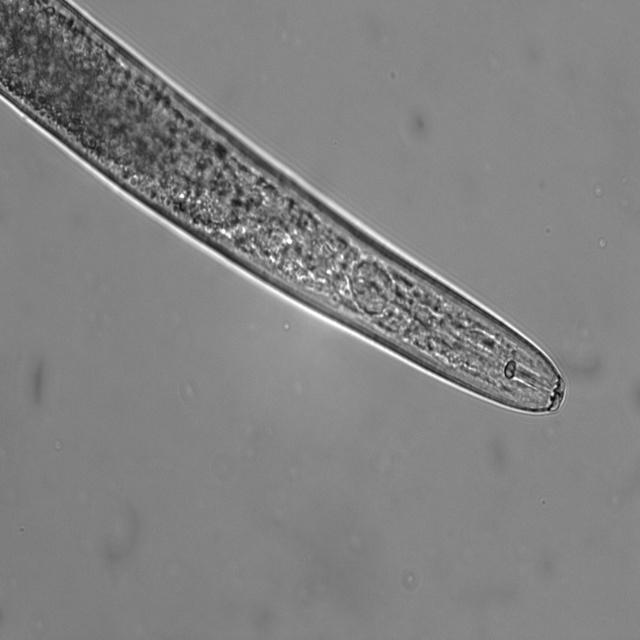Pratylenchus: (0, 0, 571, 413)
